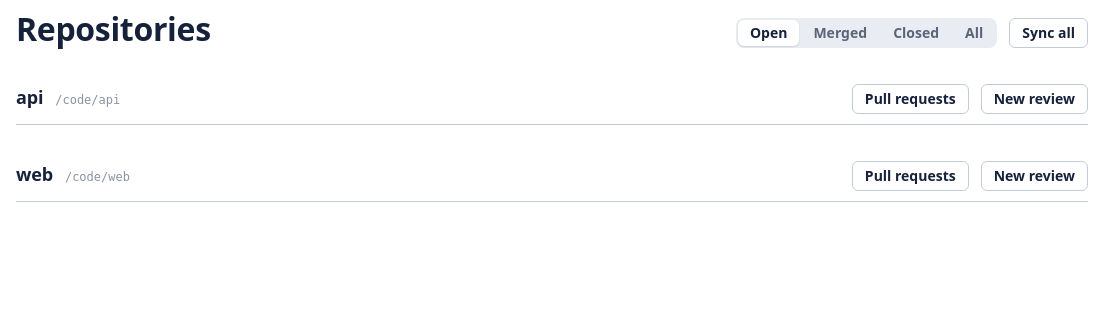
HomePage Sync all › syncs the pull request reviews of every repository at once and shows the result
Click the button "Sync all" at (1049, 33), box [1009,18,1088,48]
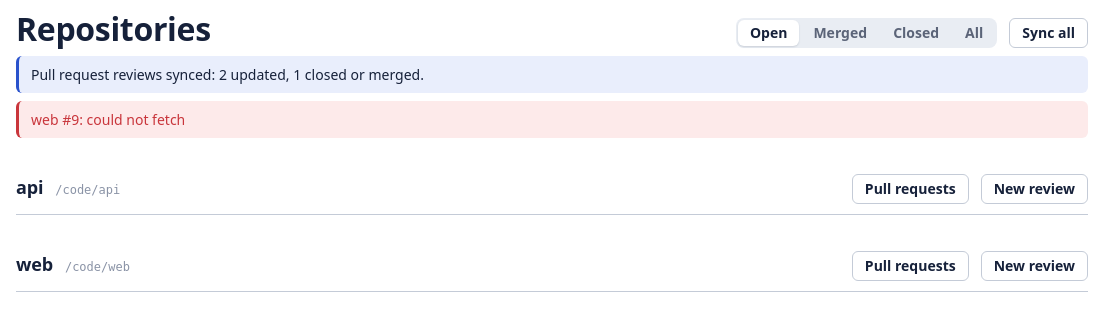
Result: the text "Pull request reviews synced: 2 updated, 1 closed or merged." is shown at [16,56,1088,93]
Result: the text "web #9: could not fetch" is shown at [16,101,1088,138]
